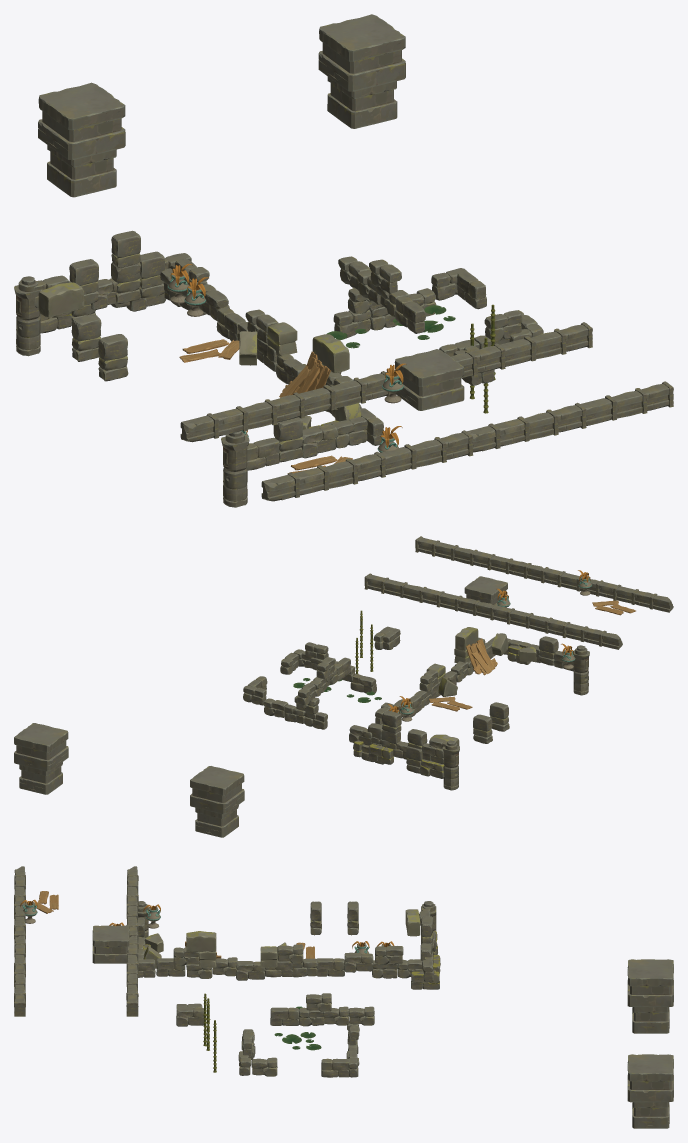
Rendered from Fortress_Part11_Blender.fbx.
3 renders of one model, top to bottom at view 1: azimuth 30°, elevation 25°; view 2: azimuth 150°, elevation 25°; view 3: azimuth 270°, elevation 25°, orthographic. The views are drawn at different scales.
Parts seen in each view (by area): view 1: arcStoneWithMoss1_5; view 2: arcStoneWithMoss1_5; view 3: arcStoneWithMoss1_5.
Part boxes in pixels (box(x1,y1,x2,y2)): arcStoneWithMoss1_5: box(14, 14, 673, 507); arcStoneWithMoss1_5: box(14, 536, 673, 837); arcStoneWithMoss1_5: box(14, 866, 673, 1128).
Bounding box in the file's own units: 4085 × 930 × 5794.
